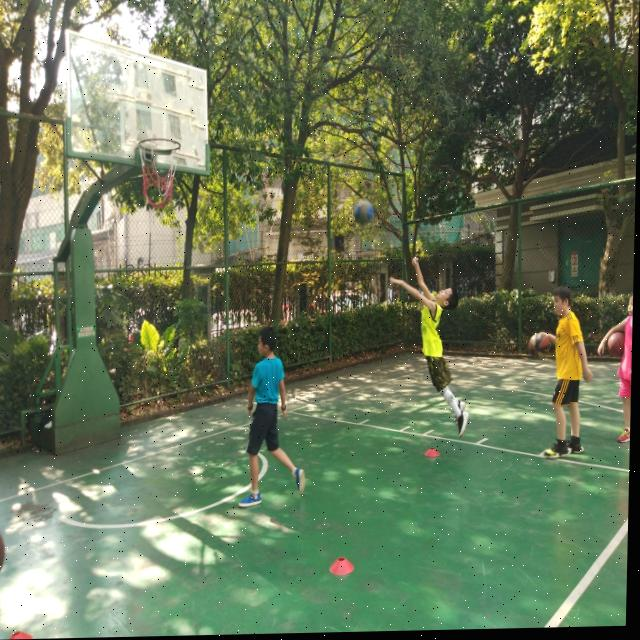basketball: (528, 331, 550, 361), (355, 197, 375, 229), (0, 518, 7, 592), (607, 332, 626, 358)
hoop: (137, 136, 183, 206)
